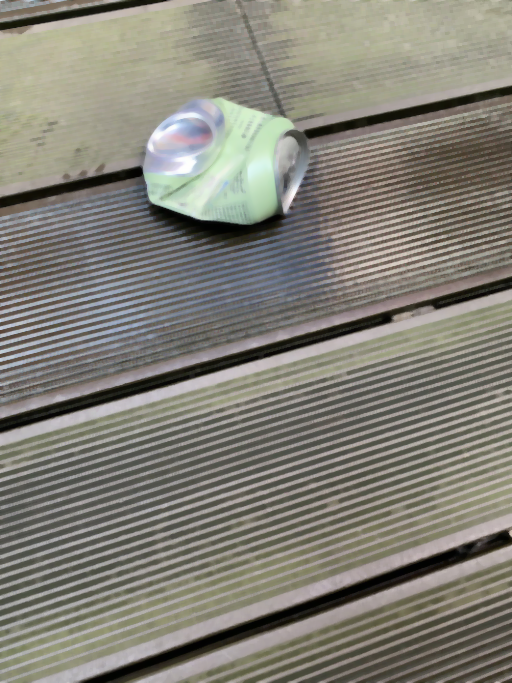can_s: (141, 96, 316, 236)
